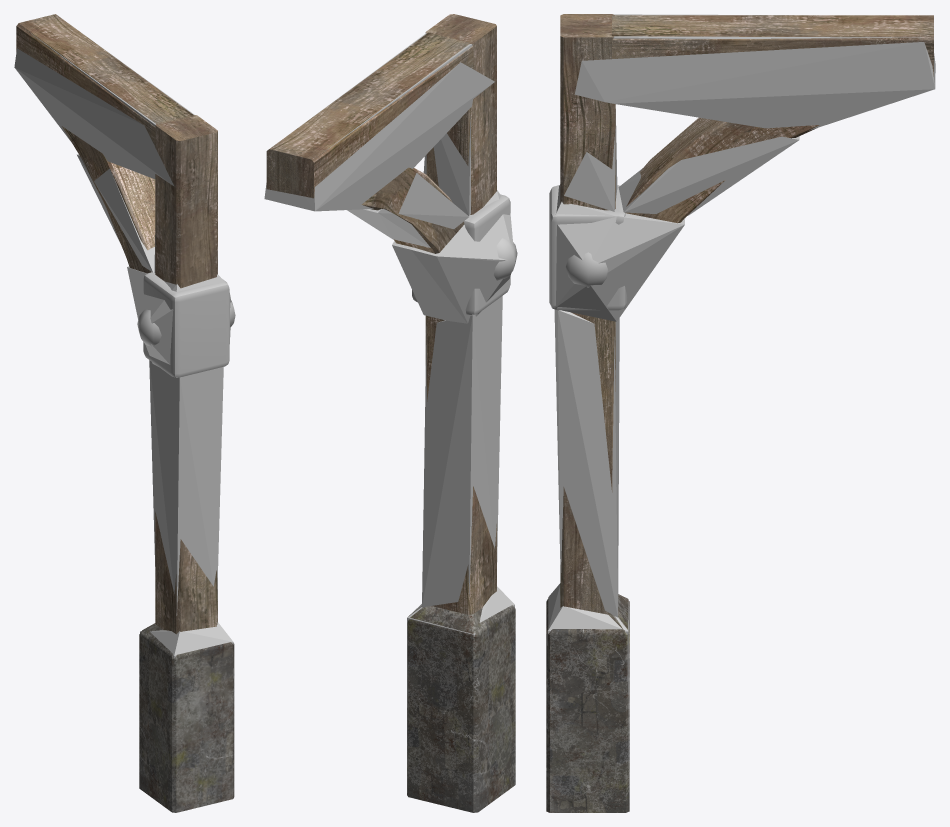
File: SM_Beam_B_02.fbx
The picture shows the model from 3 angles, left to right: view 1: azimuth 30°, elevation 25°; view 2: azimuth 150°, elevation 25°; view 3: azimuth 270°, elevation 25°; orthographic projection. The views are drawn at different scales.
Visible parts, largest first — view 1: SM_Beam_B_02, SM_Beam_B_02_ConvexHulls; view 2: SM_Beam_B_02, SM_Beam_B_02_ConvexHulls; view 3: SM_Beam_B_02_ConvexHulls, SM_Beam_B_02.
Part boxes in pixels (<box>): SM_Beam_B_02: <box>16,14,235,812</box>; SM_Beam_B_02_ConvexHulls: <box>14,29,233,678</box>; SM_Beam_B_02: <box>266,14,517,812</box>; SM_Beam_B_02_ConvexHulls: <box>264,33,514,792</box>; SM_Beam_B_02_ConvexHulls: <box>546,14,935,770</box>; SM_Beam_B_02: <box>546,14,933,812</box>.
Size of the model in its own units: 59.02 by 183 by 400.
